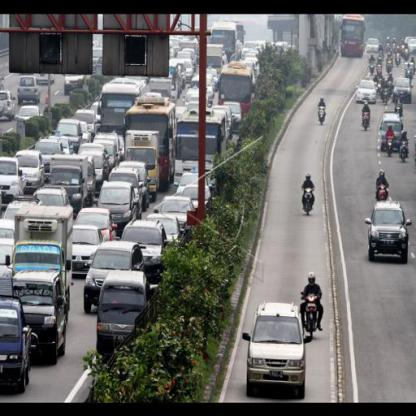bus: (126, 98, 181, 186), (218, 58, 256, 128), (98, 76, 138, 119), (336, 13, 370, 59), (211, 22, 242, 58)
car: (244, 302, 308, 402), (13, 266, 71, 361), (96, 271, 151, 351), (0, 299, 36, 394), (365, 202, 414, 262), (83, 240, 141, 287), (121, 223, 167, 264), (96, 180, 132, 224), (0, 155, 25, 203), (17, 150, 51, 184)
motorbike: (302, 290, 324, 340), (300, 183, 318, 216), (360, 108, 370, 132), (317, 104, 328, 125), (376, 184, 390, 200), (385, 134, 394, 155), (400, 140, 410, 158), (395, 102, 404, 112)
